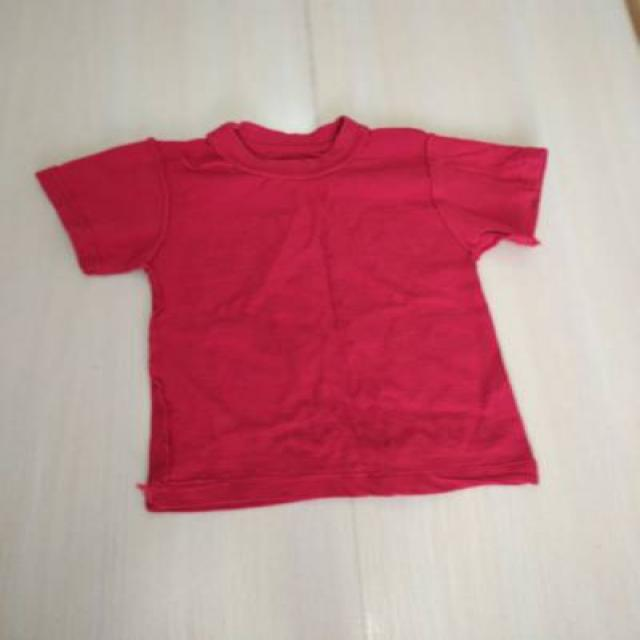Clothes -Biodegradable-: (36, 118, 547, 509)
